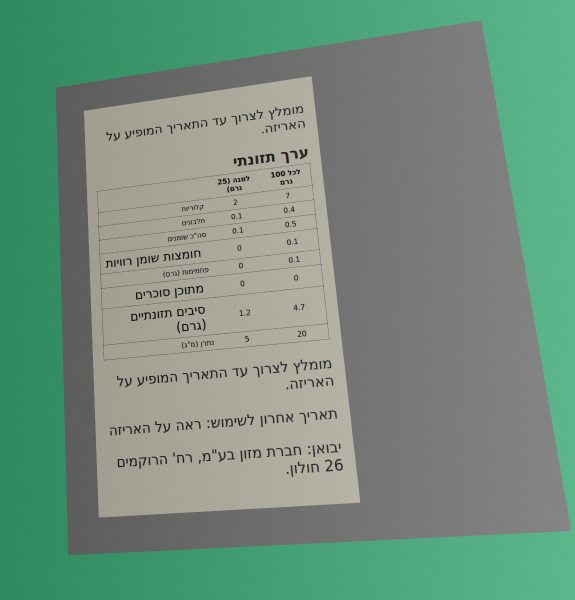carbs: (287, 254, 302, 266)
energy: (284, 190, 292, 201)
fat: (283, 218, 298, 230)
protein: (282, 204, 297, 216)
